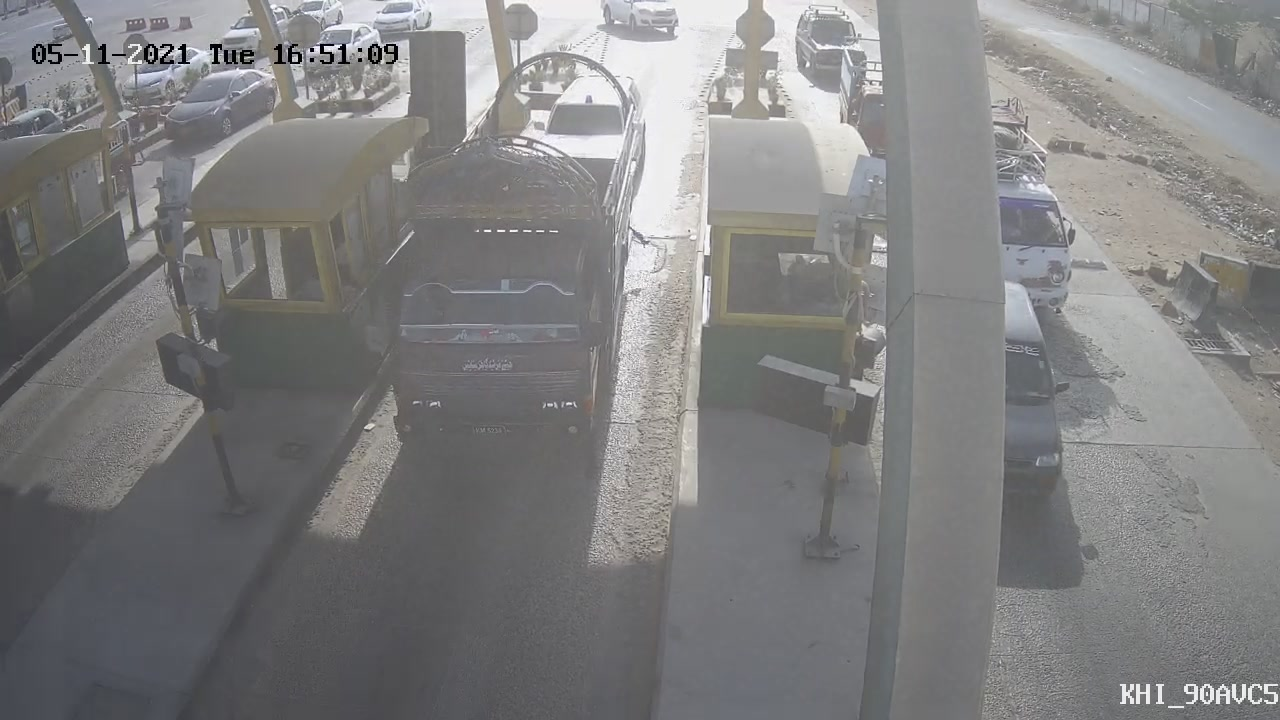F5: (344, 40, 676, 490)
